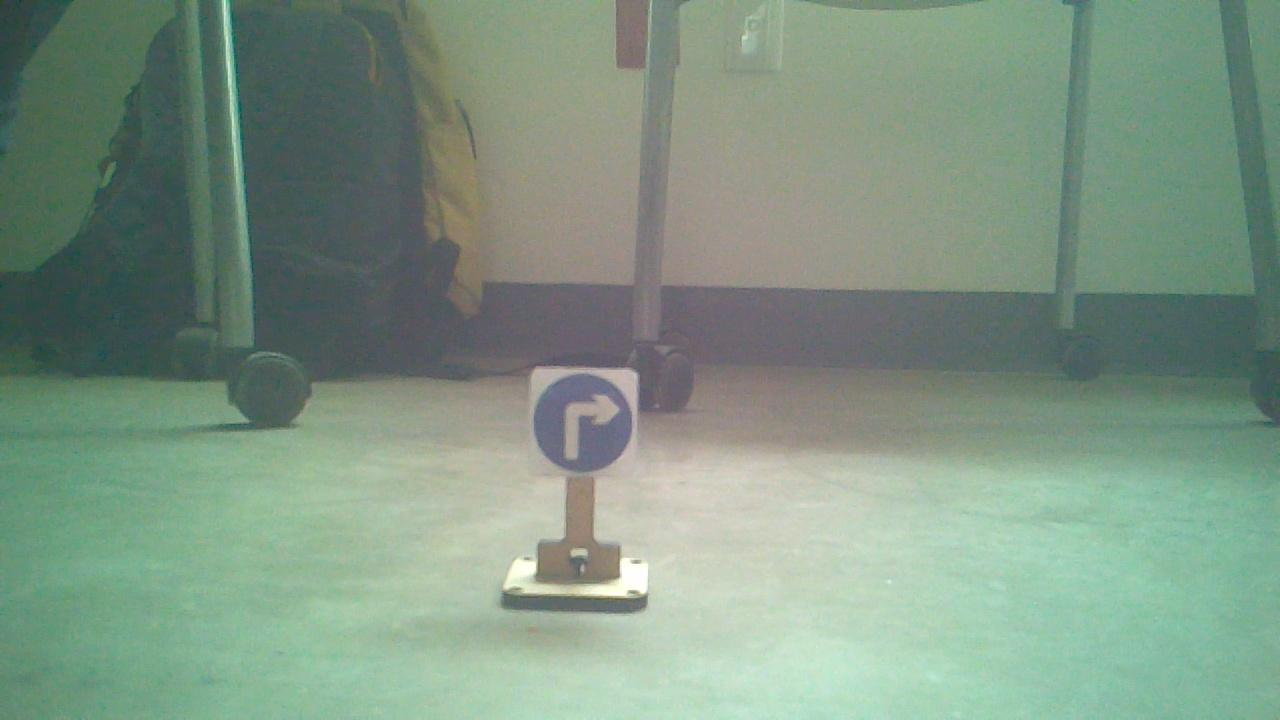turn: (532, 367, 635, 472)
